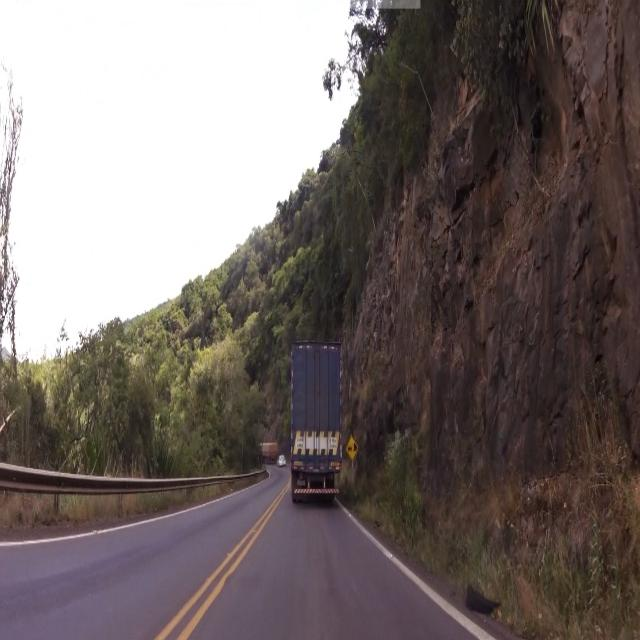A-27: (344, 431, 362, 466)
